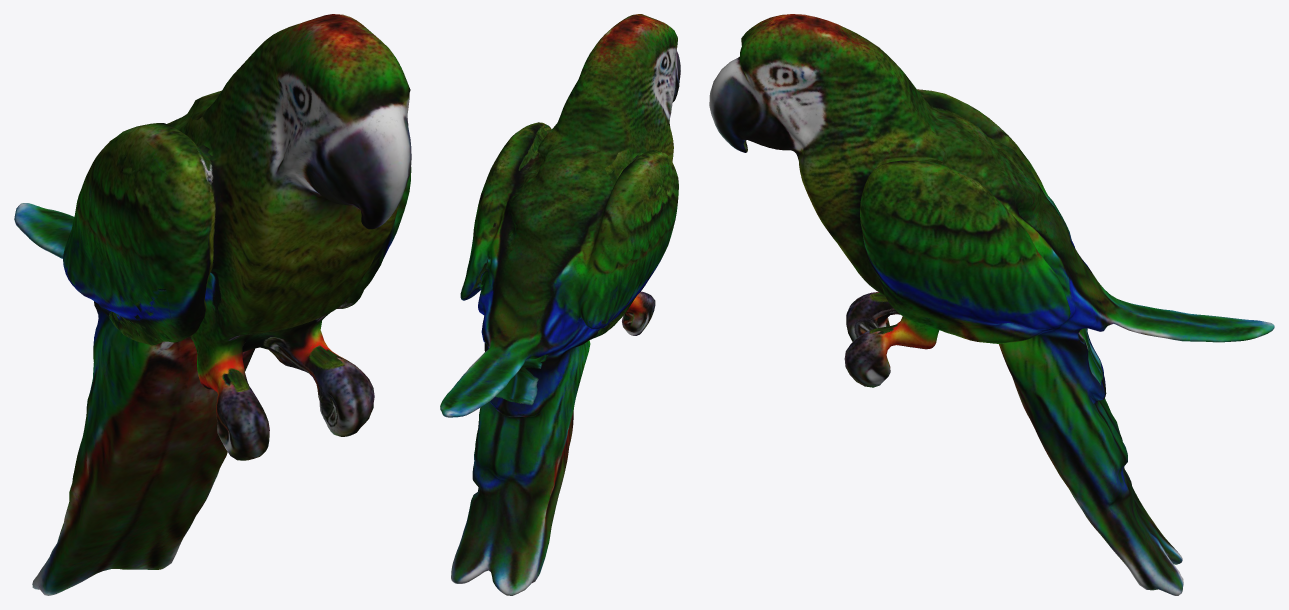
Rendered from Guacamayo.glb.
3 views of the same model, side by side, from view 1: azimuth 30°, elevation 25°; view 2: azimuth 150°, elevation 25°; view 3: azimuth 270°, elevation 25° (orthographic). The views are drawn at different scales.
Parts seen in each view (by area): view 1: node_09e47e85_5a09_428f_8f5a_3c5be53e6ba5_mesh0; view 2: node_09e47e85_5a09_428f_8f5a_3c5be53e6ba5_mesh0; view 3: node_09e47e85_5a09_428f_8f5a_3c5be53e6ba5_mesh0.
Boxes of the visible parts, box(x1,y1,x2,y2) form: node_09e47e85_5a09_428f_8f5a_3c5be53e6ba5_mesh0: box(14, 14, 411, 595); node_09e47e85_5a09_428f_8f5a_3c5be53e6ba5_mesh0: box(440, 14, 680, 595); node_09e47e85_5a09_428f_8f5a_3c5be53e6ba5_mesh0: box(709, 14, 1274, 595).
Size of the model in its own units: 0.3716 by 0.9986 by 0.9109.
1 material, 1 textured.
